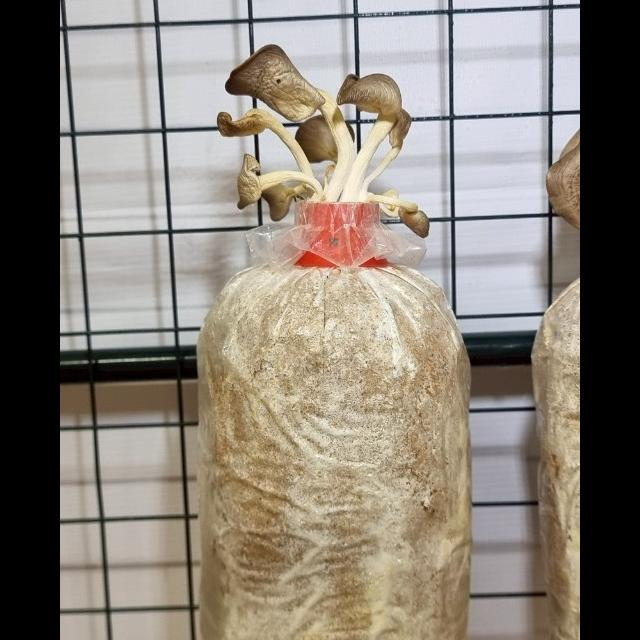abnormal: (205, 39, 331, 233), (331, 65, 403, 205), (207, 155, 325, 233), (349, 165, 437, 243)
